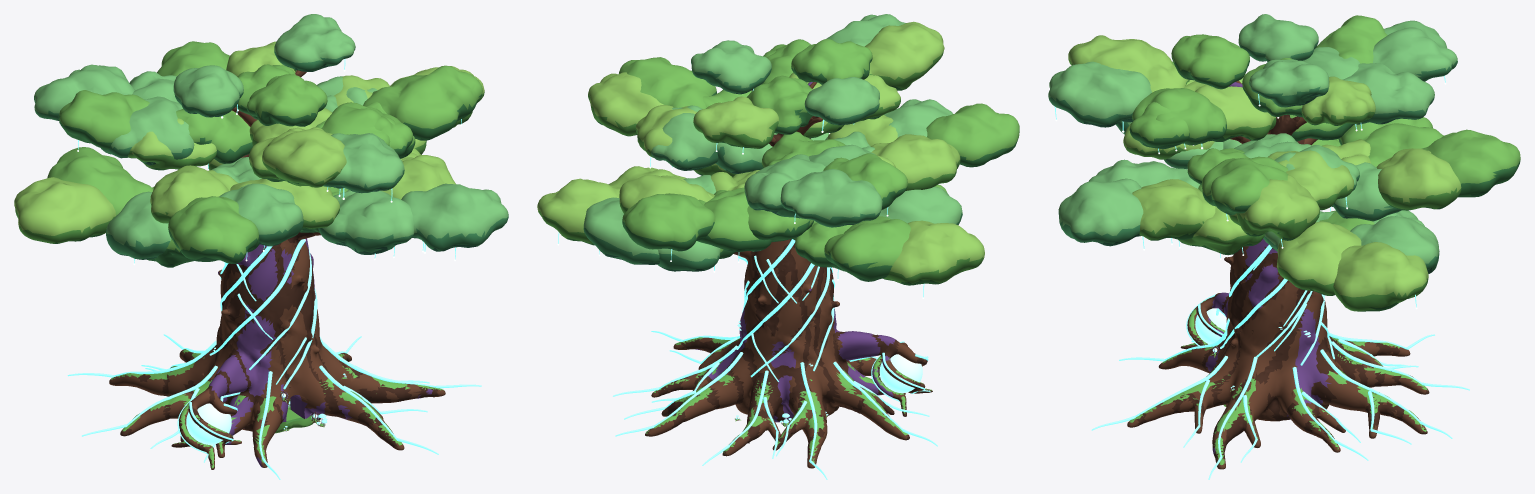
File: elderglow_tree.glb
The picture shows the model from 3 angles, left to right: view 1: azimuth 30°, elevation 25°; view 2: azimuth 150°, elevation 25°; view 3: azimuth 270°, elevation 25°; orthographic projection. The views are drawn at different scales.
Visible parts, largest first — view 1: EG_ElderTree, EG_ElderTree_canopy13, EG_ElderTree_canopy27, EG_ElderTree_canopy8, EG_ElderTree_canopy23, EG_ElderTree_canopy11, EG_ElderTree_canopy37, EG_ElderTree_canopy32, EG_ElderTree_canopy51, EG_ElderTree_canopy38, EG_ElderTree_canopy50, EG_ElderTree_canopy7 (+23 smaller); view 2: EG_ElderTree, EG_ElderTree_canopy8, EG_ElderTree_canopy33, EG_ElderTree_canopy18, EG_ElderTree_canopy23, EG_ElderTree_canopy7, EG_ElderTree_canopy37, EG_ElderTree_canopy48, EG_ElderTree_canopy21, EG_ElderTree_canopy51, EG_ElderTree_canopy28, EG_ElderTree_canopy27 (+26 smaller); view 3: EG_ElderTree, EG_ElderTree_canopy3, EG_ElderTree_canopy38, EG_ElderTree_canopy13, EG_ElderTree_canopy17, EG_ElderTree_canopy18, EG_ElderTree_canopy1, EG_ElderTree_canopy12, EG_ElderTree_canopy28, EG_ElderTree_canopy33, EG_ElderTree_canopy37, EG_ElderTree_canopy27 (+26 smaller).
Part boxes in pixels (box(x1,y1,x2,y2)): EG_ElderTree: box(67, 70, 481, 479); EG_ElderTree_canopy13: box(401, 183, 508, 261); EG_ElderTree_canopy27: box(363, 65, 482, 140); EG_ElderTree_canopy8: box(14, 177, 115, 243); EG_ElderTree_canopy23: box(168, 196, 259, 263); EG_ElderTree_canopy11: box(318, 189, 414, 260); EG_ElderTree_canopy37: box(262, 127, 346, 191); EG_ElderTree_canopy32: box(58, 90, 149, 151); EG_ElderTree_canopy51: box(274, 14, 355, 71); EG_ElderTree_canopy38: box(323, 133, 404, 202); EG_ElderTree_canopy50: box(246, 74, 327, 126); EG_ElderTree_canopy7: box(47, 147, 153, 215); EG_ElderTree: box(613, 82, 937, 479); EG_ElderTree_canopy8: box(883, 220, 984, 298); EG_ElderTree_canopy33: box(780, 169, 882, 227); EG_ElderTree_canopy18: box(622, 193, 715, 261); EG_ElderTree_canopy23: box(926, 103, 1019, 167); EG_ElderTree_canopy7: box(824, 216, 910, 281); EG_ElderTree_canopy37: box(864, 21, 944, 90); EG_ElderTree_canopy48: box(693, 96, 778, 154); EG_ElderTree_canopy21: box(870, 134, 960, 190); EG_ElderTree_canopy51: box(691, 40, 771, 94); EG_ElderTree_canopy28: box(588, 72, 663, 136); EG_ElderTree_canopy27: box(619, 57, 716, 109); EG_ElderTree: box(1091, 80, 1469, 479); EG_ElderTree_canopy3: box(1333, 242, 1428, 311); EG_ElderTree_canopy38: box(1048, 61, 1151, 127); EG_ElderTree_canopy13: box(1058, 178, 1143, 246); EG_ElderTree_canopy17: box(1376, 148, 1461, 210); EG_ElderTree_canopy18: box(1422, 129, 1520, 197); EG_ElderTree_canopy1: box(1277, 221, 1361, 295); EG_ElderTree_canopy12: box(1132, 179, 1215, 250); EG_ElderTree_canopy28: box(1228, 175, 1319, 248); EG_ElderTree_canopy33: box(1373, 20, 1457, 84); EG_ElderTree_canopy37: box(1068, 35, 1189, 92); EG_ElderTree_canopy27: box(1201, 157, 1288, 221).
Size of the model in its own units: 198 by 160 by 188.
